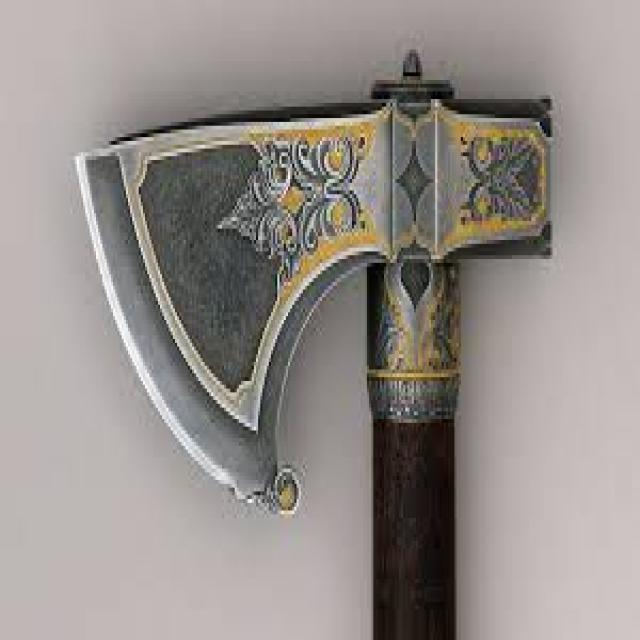Gun: (89, 26, 606, 640)
